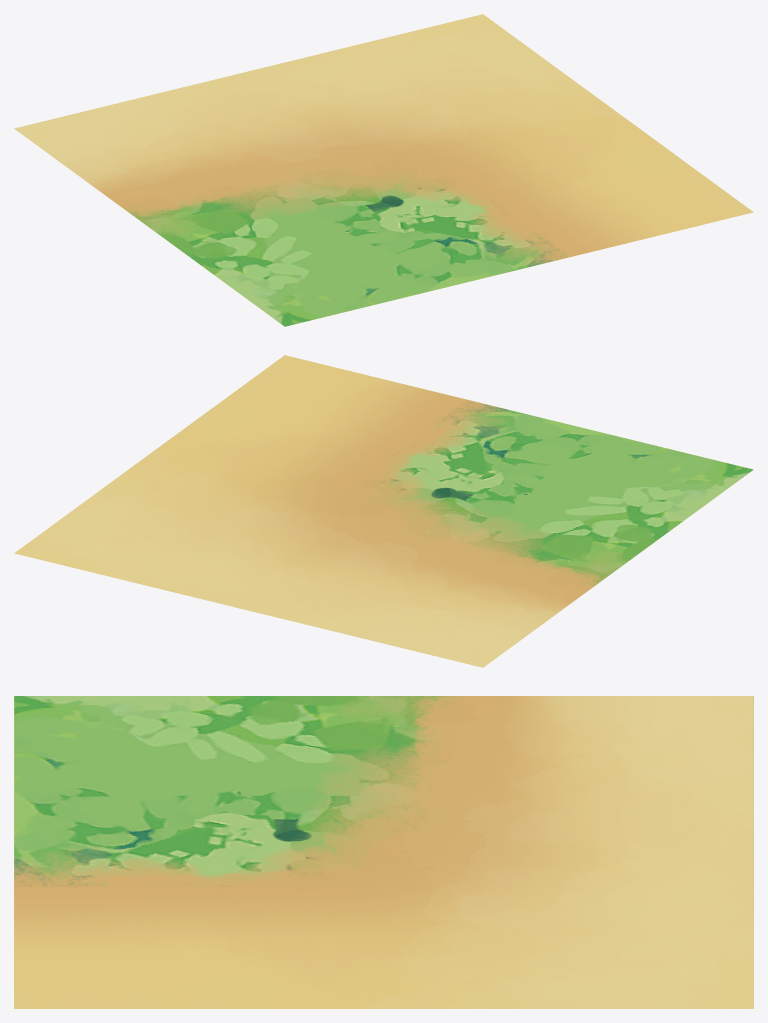
Rendered from env_tiles_mesh_05.fbx.
3 renders of one model, top to bottom at view 1: azimuth 30°, elevation 25°; view 2: azimuth 150°, elevation 25°; view 3: azimuth 270°, elevation 25°, orthographic. The views are drawn at different scales.
Visible parts, largest first — view 1: T5; view 2: T5; view 3: T5.
Boxes of the visible parts, x1,y1,x2,y2 form: T5: (14, 14, 753, 326); T5: (14, 355, 753, 667); T5: (14, 696, 753, 1008).
Bounding box in the file's own units: 1000 × 0 × 1000.
